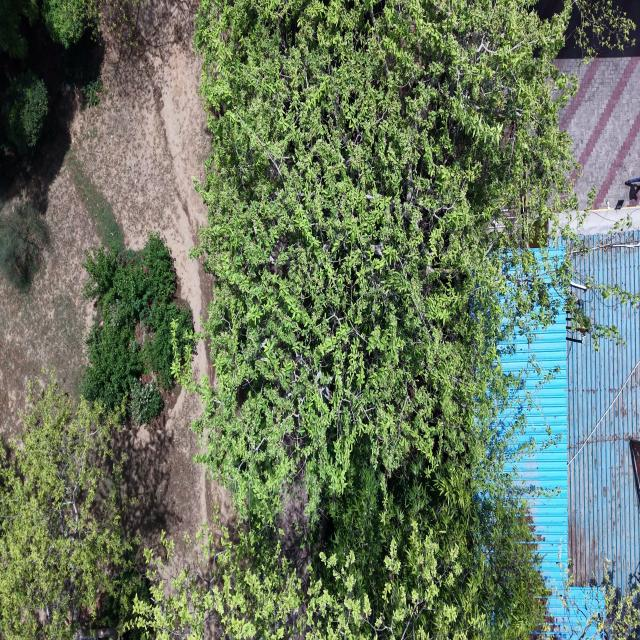DRY_AREA: (0, 1, 210, 436), (77, 2, 210, 329), (0, 82, 104, 437), (0, 167, 100, 438), (557, 55, 639, 225)
ROOFTOP_BUILDING: (504, 56, 639, 633), (503, 230, 639, 633), (565, 286, 639, 589), (567, 286, 639, 589), (502, 312, 568, 628)
VEGETATION_TREE: (0, 0, 579, 639), (196, 0, 578, 639), (196, 1, 574, 516), (0, 380, 543, 639), (0, 237, 192, 639), (129, 457, 545, 639), (126, 475, 539, 639), (0, 0, 184, 212), (0, 377, 140, 639), (0, 0, 103, 209), (82, 236, 194, 422), (87, 0, 199, 102), (123, 532, 216, 639), (560, 0, 636, 61), (567, 575, 639, 639), (0, 201, 47, 292), (3, 70, 48, 150), (572, 0, 632, 60), (0, 0, 38, 57), (43, 0, 87, 46), (129, 378, 163, 423), (83, 76, 103, 106)
